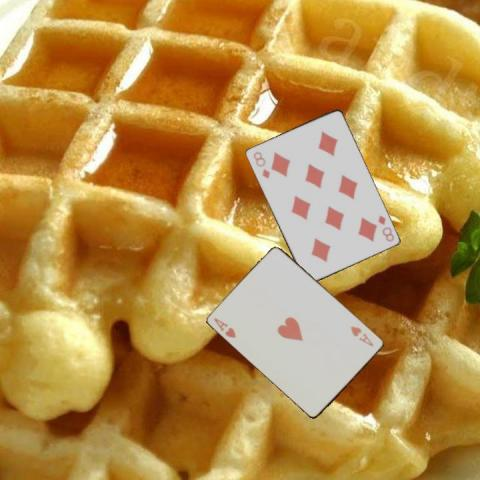8d: (250, 149, 271, 180), (375, 212, 395, 243)
Ah: (348, 323, 376, 347), (211, 315, 238, 339)
